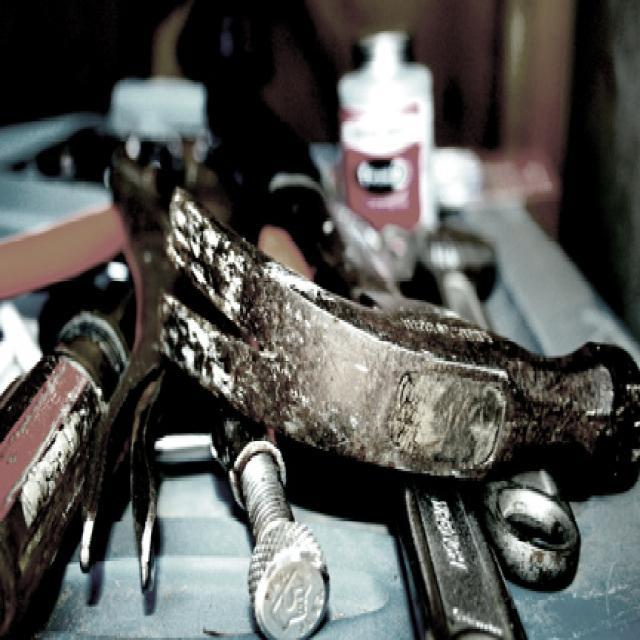hammer: (133, 111, 640, 511)
